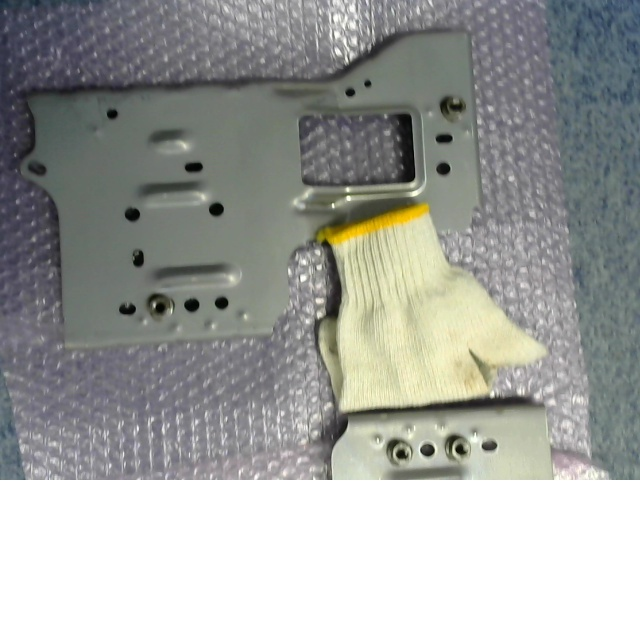dog: (386, 438, 414, 466), (440, 94, 466, 123), (445, 435, 472, 462), (147, 293, 174, 319)
